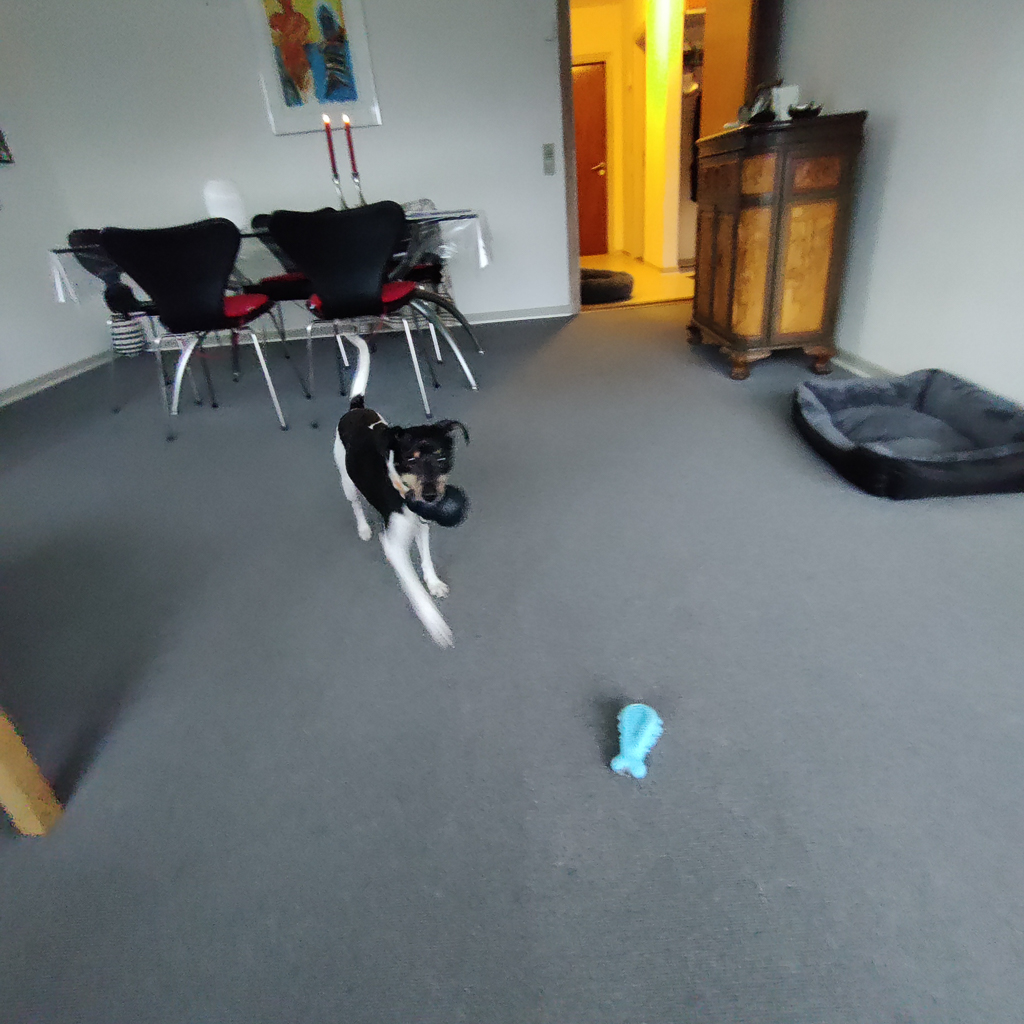Dog: (302, 315, 493, 662)
